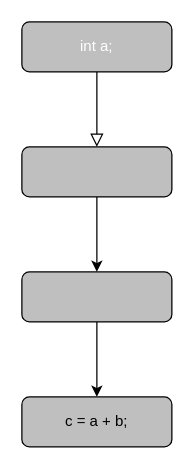
Image size: 194x469. Some labels were removed from this diagram. The centre of each missing label's shape, as x and y in pixels:
int b;: point 96,171
int c;: point 96,296
